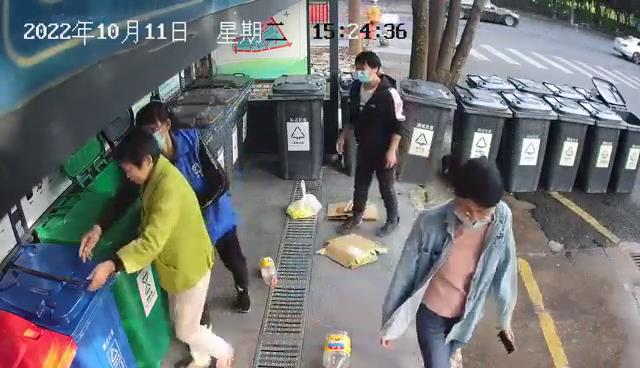garbage-bag: (284, 178, 323, 221)
person: (85, 128, 234, 368), (333, 49, 408, 237)
suliaozhipin: (321, 327, 353, 368), (257, 255, 278, 290)
worker: (77, 100, 251, 332), (378, 154, 519, 368)
zhizhipin: (315, 232, 390, 270), (326, 198, 380, 223)
